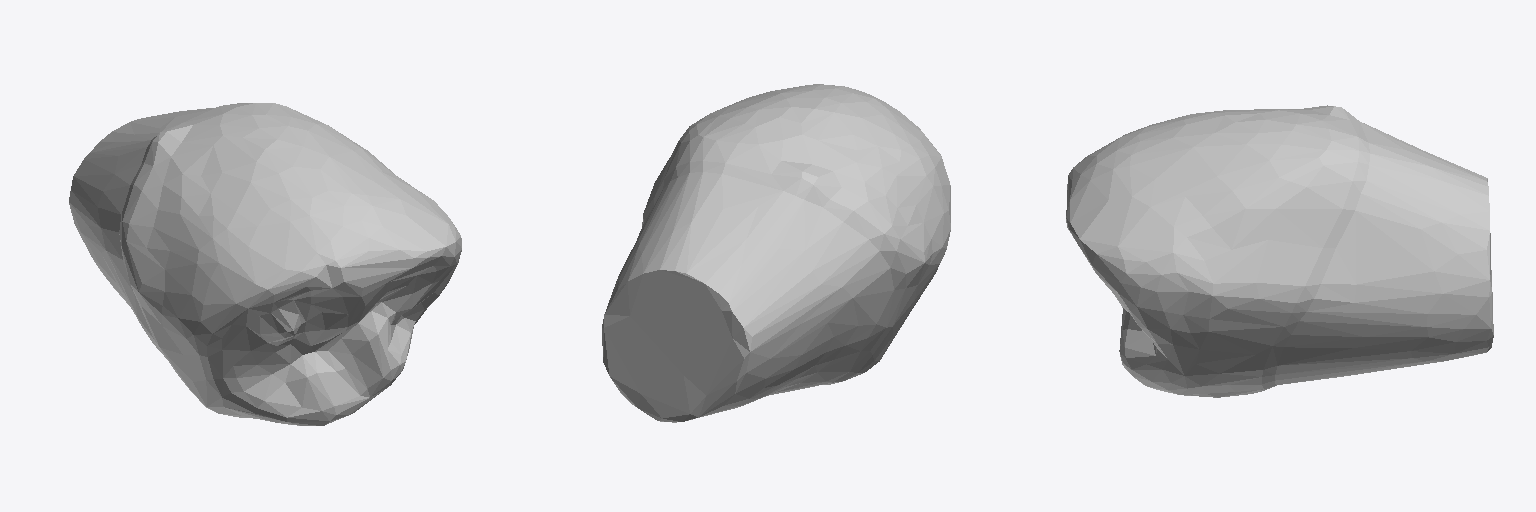
Rendered from local_t34_7780_si.OBJ.
3 renders of one model, left to right at view 1: azimuth 30°, elevation 25°; view 2: azimuth 150°, elevation 25°; view 3: azimuth 270°, elevation 25°, orthographic.
Visible parts, largest first — view 1: Group59642; view 2: Group59642; view 3: Group59642.
Part boxes in pixels (x1,y1,x2,y2): Group59642: (69,103,461,425); Group59642: (602,84,950,422); Group59642: (1066,105,1493,397).
Bounding box in the file's own units: 8.13 × 7.61 × 10.97.